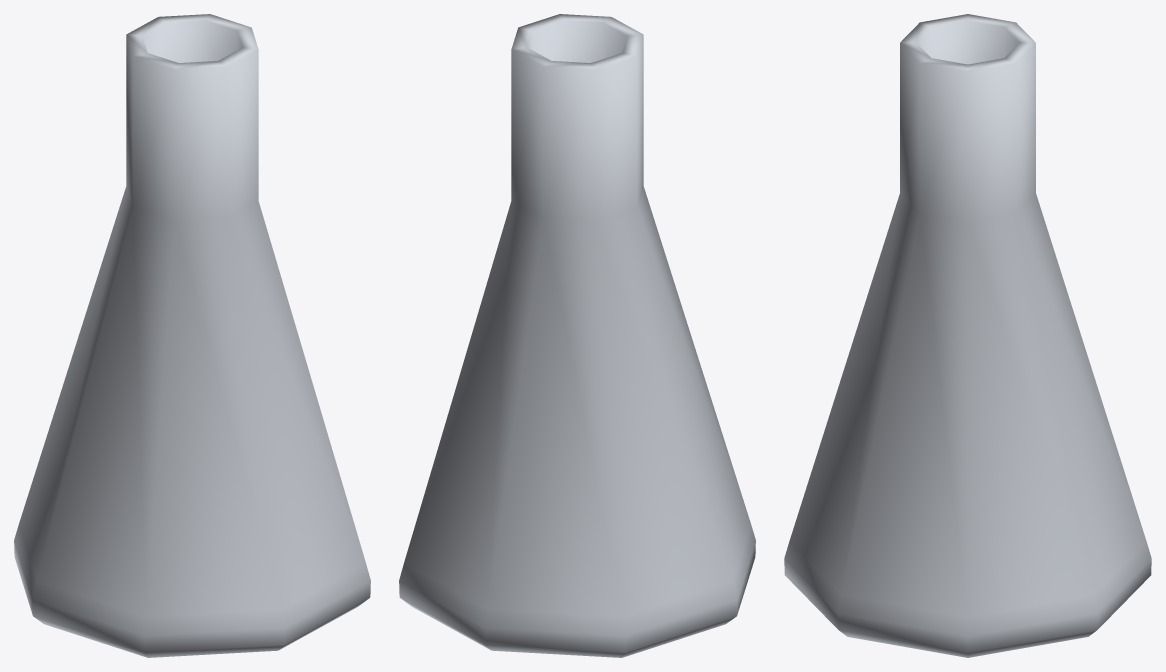
File: bottle_glassware_erlenmeyer_flask_small.glb
3 views of the same model, side by side, from view 1: azimuth 30°, elevation 25°; view 2: azimuth 150°, elevation 25°; view 3: azimuth 270°, elevation 25° (orthographic).
Visible parts, largest first — view 1: bottle_glassware_erlenmeyer_flask_small; view 2: bottle_glassware_erlenmeyer_flask_small; view 3: bottle_glassware_erlenmeyer_flask_small.
Part boxes in pixels (bbox=[...]): bottle_glassware_erlenmeyer_flask_small: bbox=[14, 14, 370, 657]; bottle_glassware_erlenmeyer_flask_small: bbox=[399, 14, 755, 657]; bottle_glassware_erlenmeyer_flask_small: bbox=[784, 14, 1151, 657].
Bounding box in the file's own units: 8.9 × 14.58 × 8.9.
1 material, 1 textured.
